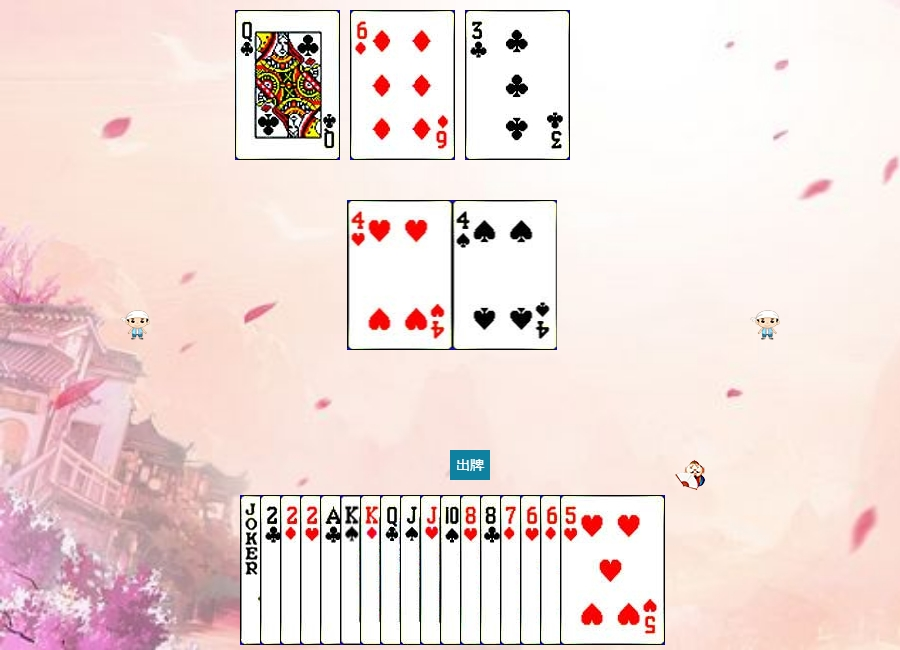10~4: (440, 495, 545, 645)
11~3: (420, 495, 525, 645)
11~4: (400, 495, 505, 645)
12~2: (235, 10, 340, 160), (380, 495, 485, 645)
13~1: (360, 495, 465, 645)
13~4: (340, 495, 445, 645)
14~2: (320, 495, 425, 645)
15~1: (280, 495, 385, 645)
15~2: (260, 495, 365, 645)
15~3: (300, 495, 405, 645)
17~3: (240, 495, 345, 645)
3~2: (465, 10, 570, 160)
4~3: (348, 200, 453, 350)
4~4: (453, 200, 558, 350)
5~3: (560, 495, 665, 645)
6~1: (350, 10, 455, 160), (540, 495, 645, 645)
6~3: (520, 495, 625, 645)
7~1: (500, 495, 605, 645)
8~2: (480, 495, 585, 645)
8~3: (460, 495, 565, 645)
